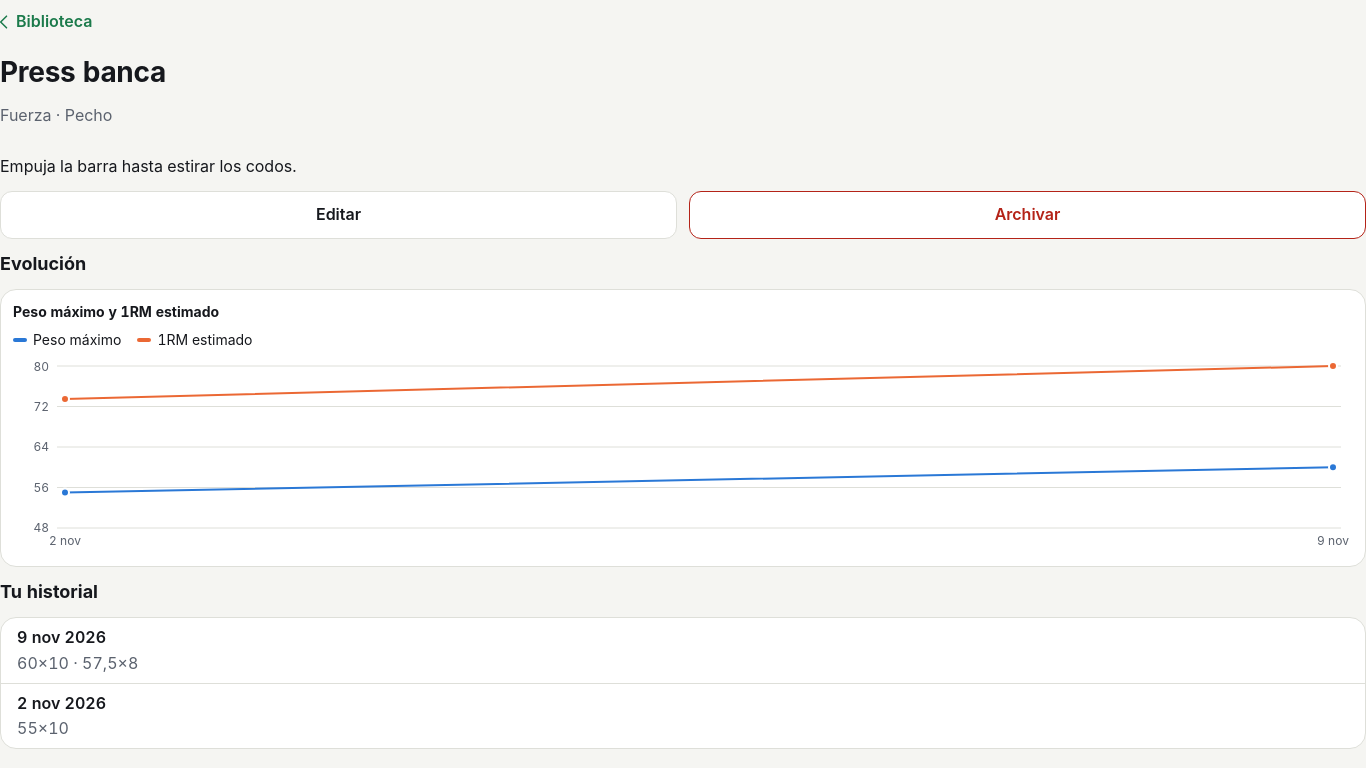
Test: Ficha: editar › al guardar los cambios refresca la copia sin conexión
The image size is (1366, 768).
Expected: the heading "Press banca" is shown, [0,55,166,89]
Click the button "Editar" at {"x": 338, "y": 215}, box [0,191,677,239]
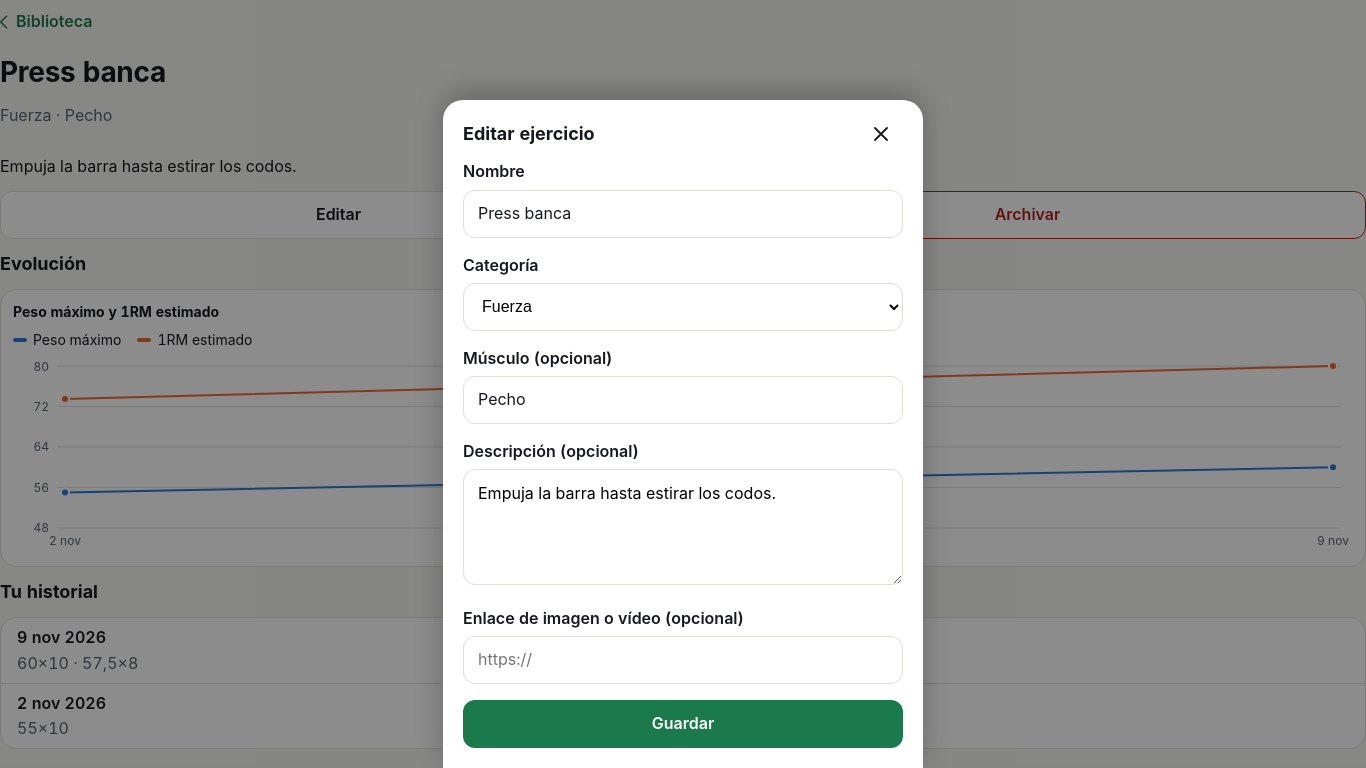
Replace the text in the field labelled "Nombre" with "Press plano" at {"x": 683, "y": 214}, box [463,190,903,238]
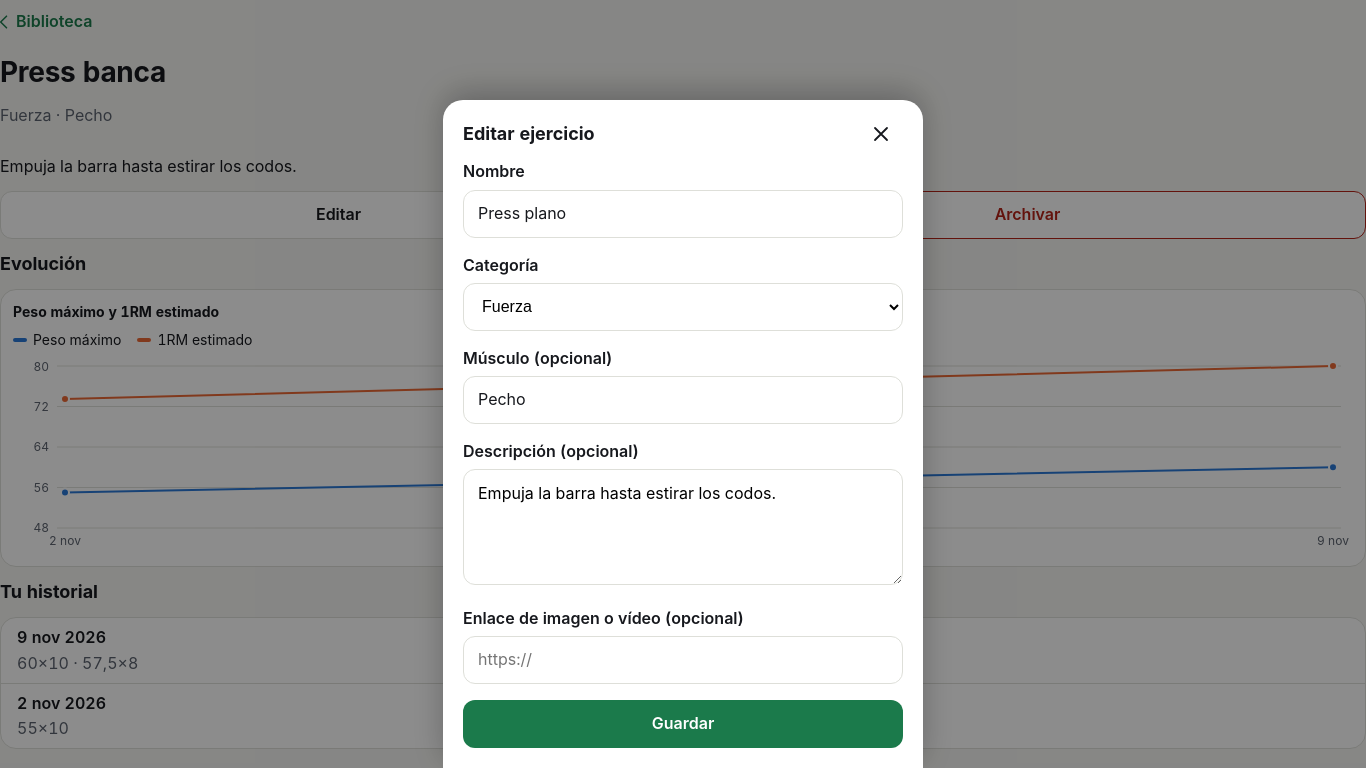
Click the button "Guardar" at {"x": 683, "y": 724}, box [463,700,903,748]
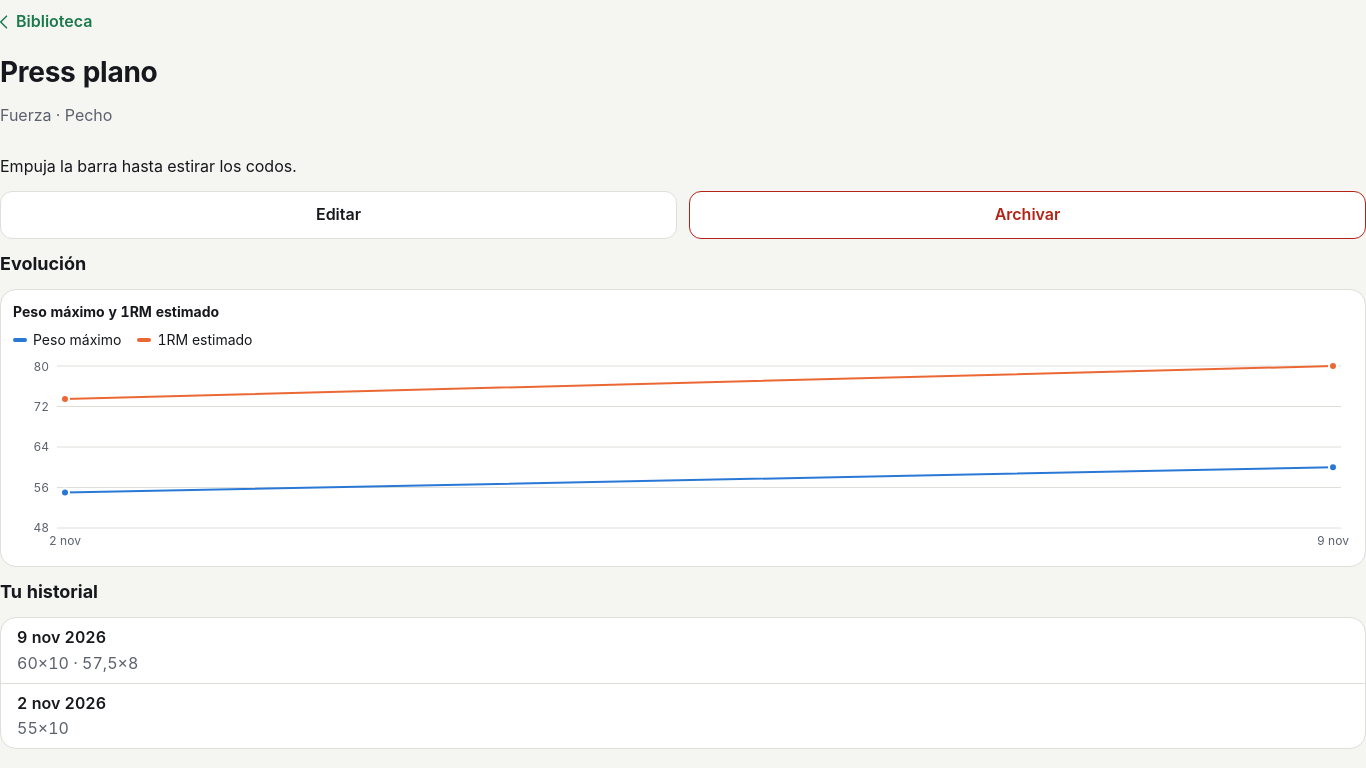
Now the dialog is gone
